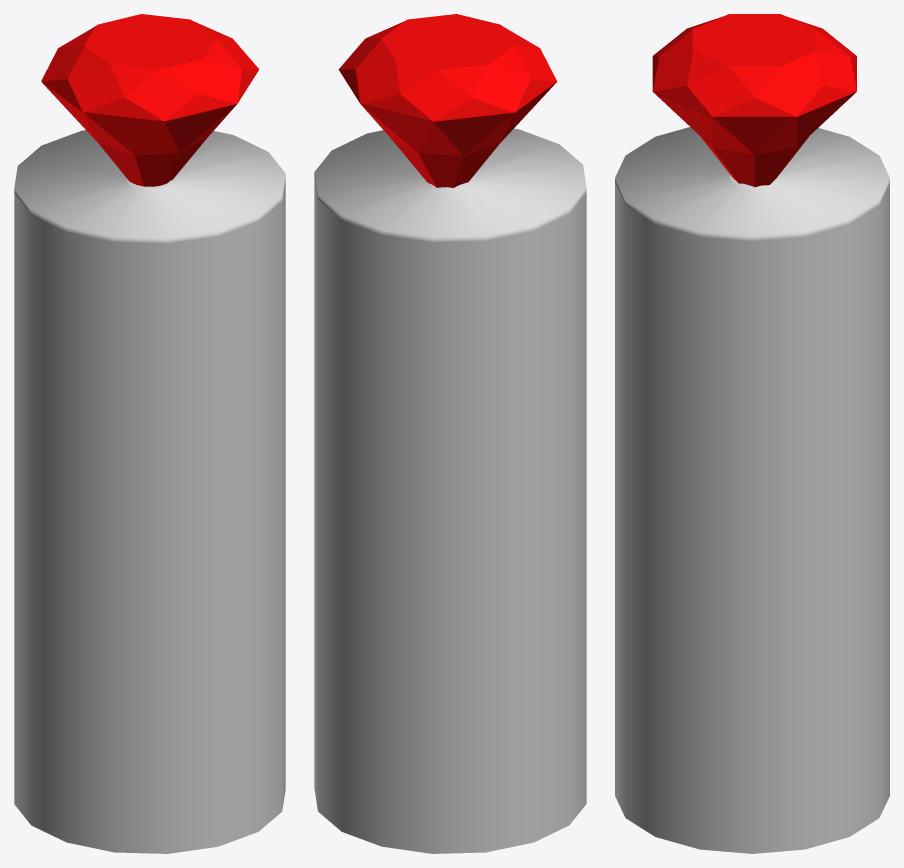
The model's file is StealDiamondNewGem.FBX.
The picture shows the model from 3 angles, left to right: view 1: azimuth 30°, elevation 25°; view 2: azimuth 150°, elevation 25°; view 3: azimuth 270°, elevation 25°; orthographic projection.
Visible parts, largest first — view 1: Circle, Gem; view 2: Circle, Gem; view 3: Circle, Gem.
Boxes of the visible parts, left/top/right/bottom form: Circle: left=14, top=130, right=285, bottom=853; Gem: left=41, top=14, right=258, bottom=186; Circle: left=314, top=128, right=586, bottom=853; Gem: left=338, top=14, right=556, bottom=187; Circle: left=615, top=127, right=889, bottom=853; Gem: left=652, top=14, right=856, bottom=187.
Bounding box in the file's own units: 0.5762 × 1.75 × 0.5762.
